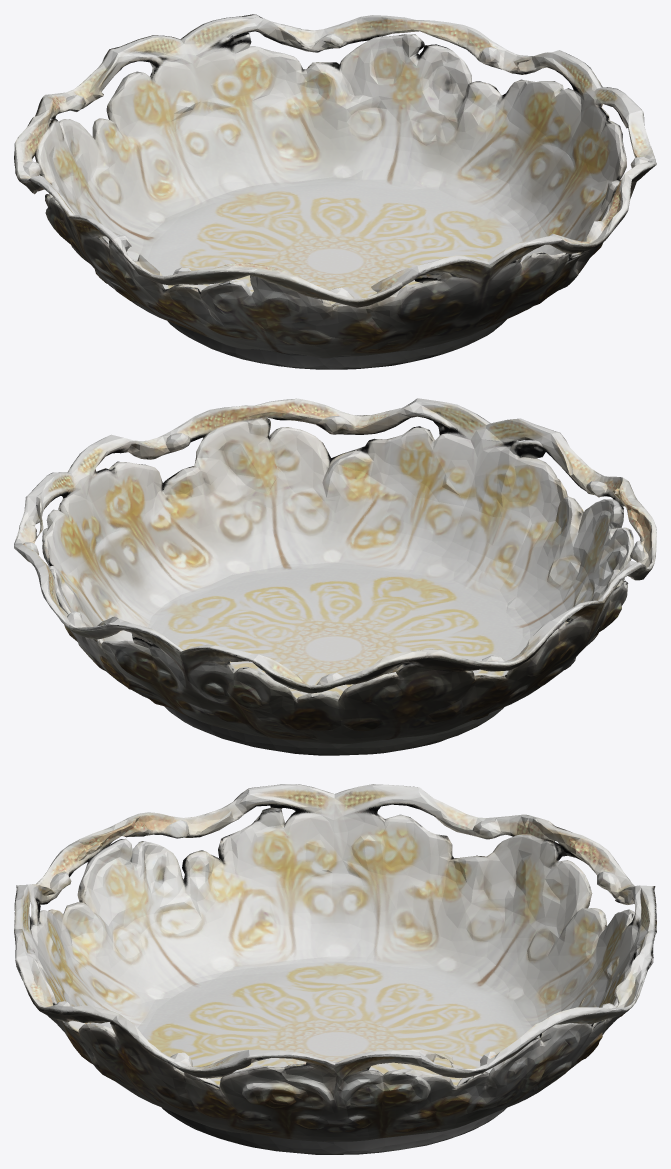
File: porcelain-dish-3d.jpeg.glb
3 renders of one model, top to bottom at view 1: azimuth 30°, elevation 25°; view 2: azimuth 150°, elevation 25°; view 3: azimuth 270°, elevation 25°, orthographic. The views are drawn at different scales.
Visible parts, largest first — view 1: world; view 2: world; view 3: world.
Boxes of the visible parts, <box> form: world: <box>14,14,656,369</box>; world: <box>14,398,656,755</box>; world: <box>14,784,656,1154</box>.
Bounding box in the file's own units: 0.9953 × 0.2767 × 0.9976.
Materials: 1 (1 with a texture image).
